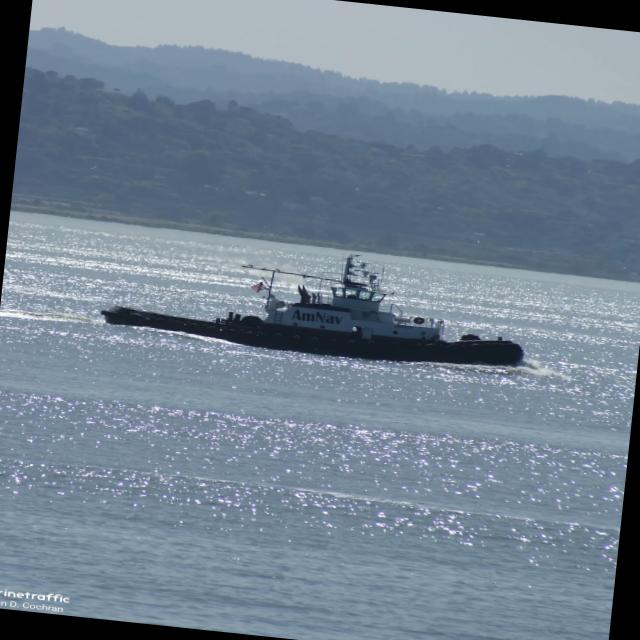Tug: (101, 254, 522, 365)
